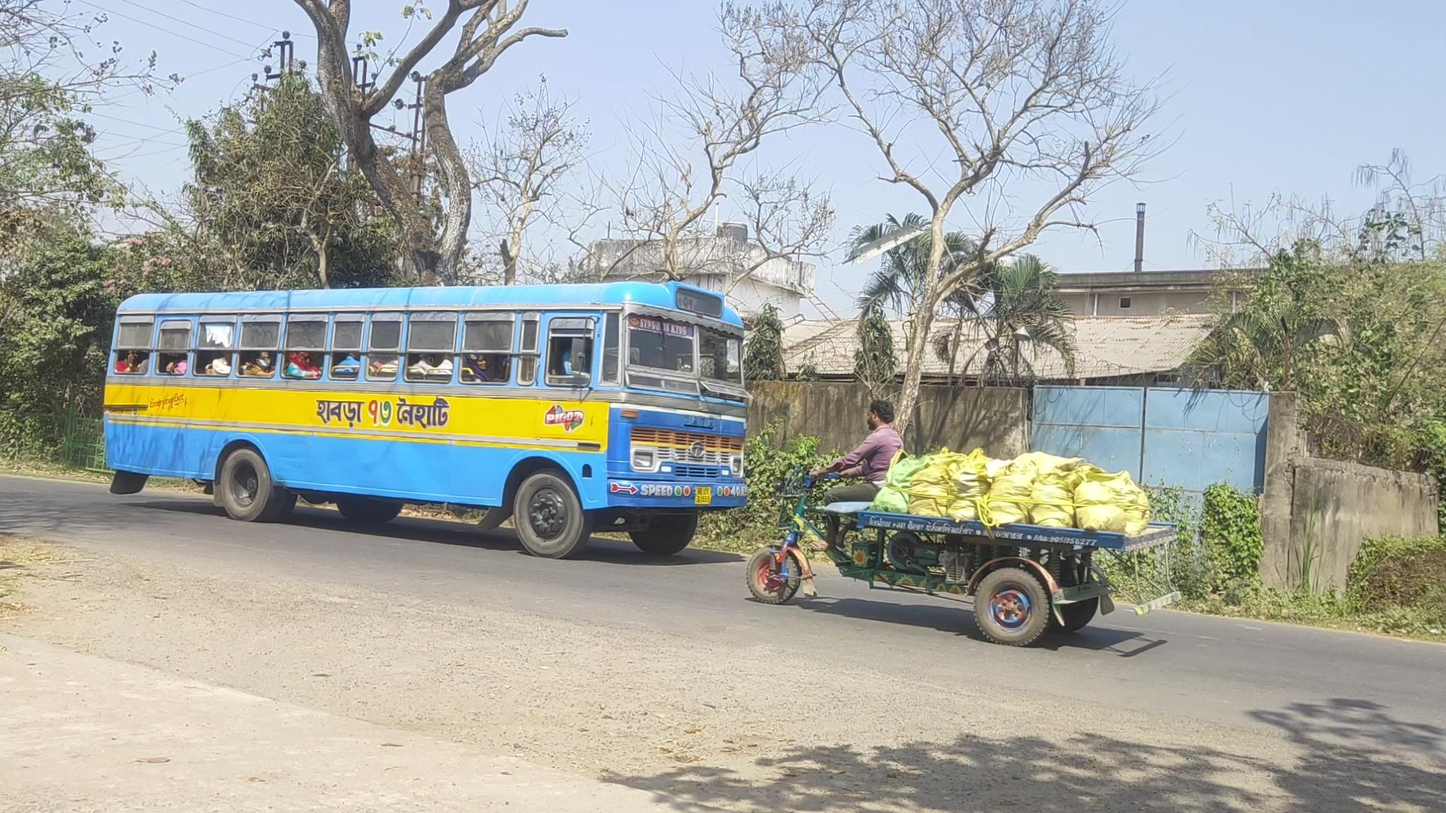Bus: (102, 281, 752, 559)
